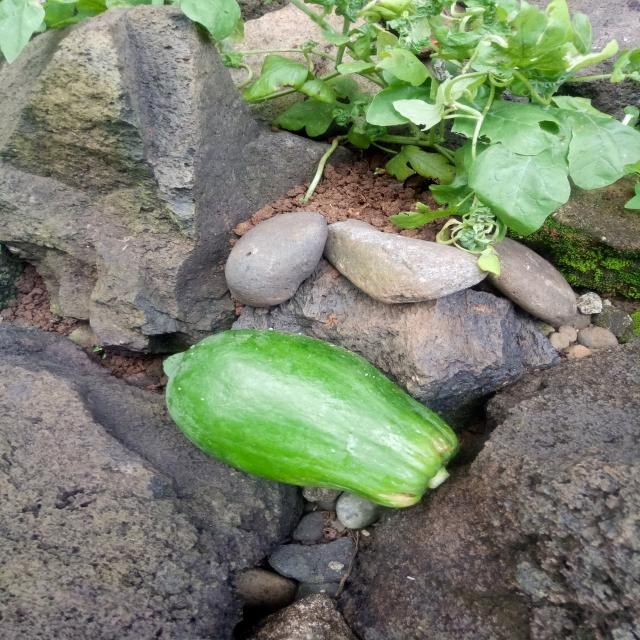Pepaya unrippen: (149, 322, 460, 510)
